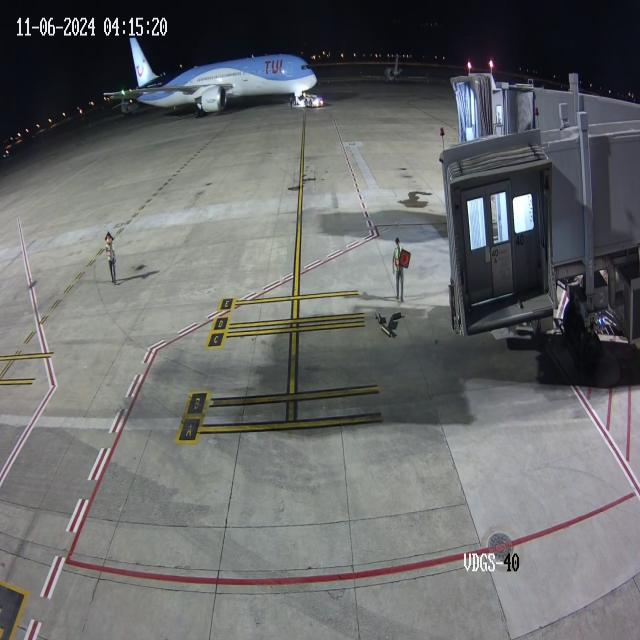bridge: (476, 68, 534, 140)
plane: (95, 2, 334, 119)
window: (299, 61, 316, 74)
